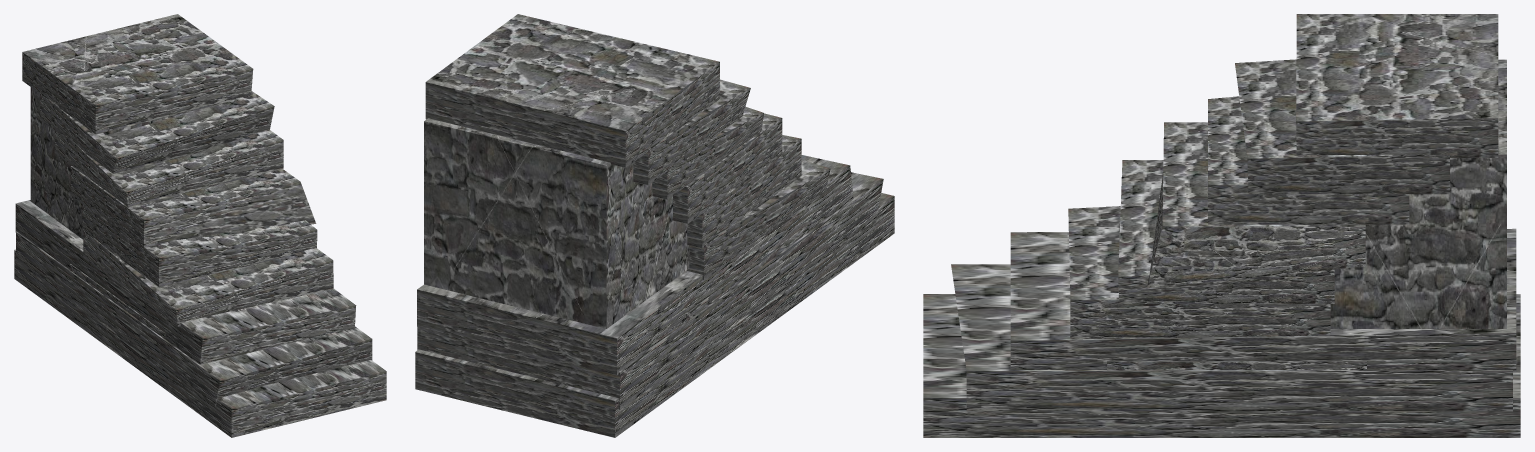
Rendered from StoneStairs.fbx.
3 renders of one model, left to right at view 1: azimuth 30°, elevation 25°; view 2: azimuth 150°, elevation 25°; view 3: azimuth 270°, elevation 25°, orthographic. The views are drawn at different scales.
Visible parts, largest first — view 1: stairs; view 2: stairs; view 3: stairs.
Part boxes in pixels (x1,y1,x2,y2): stairs: (14, 14, 386, 437); stairs: (415, 14, 894, 437); stairs: (923, 14, 1520, 437).
Bounding box in the file's own units: 12.25 × 16.14 × 27.31.
